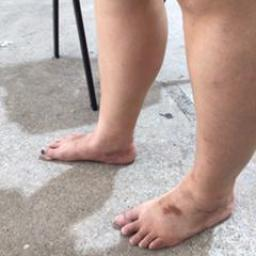Medial View -Right Foot-: (33, 109, 148, 173)
